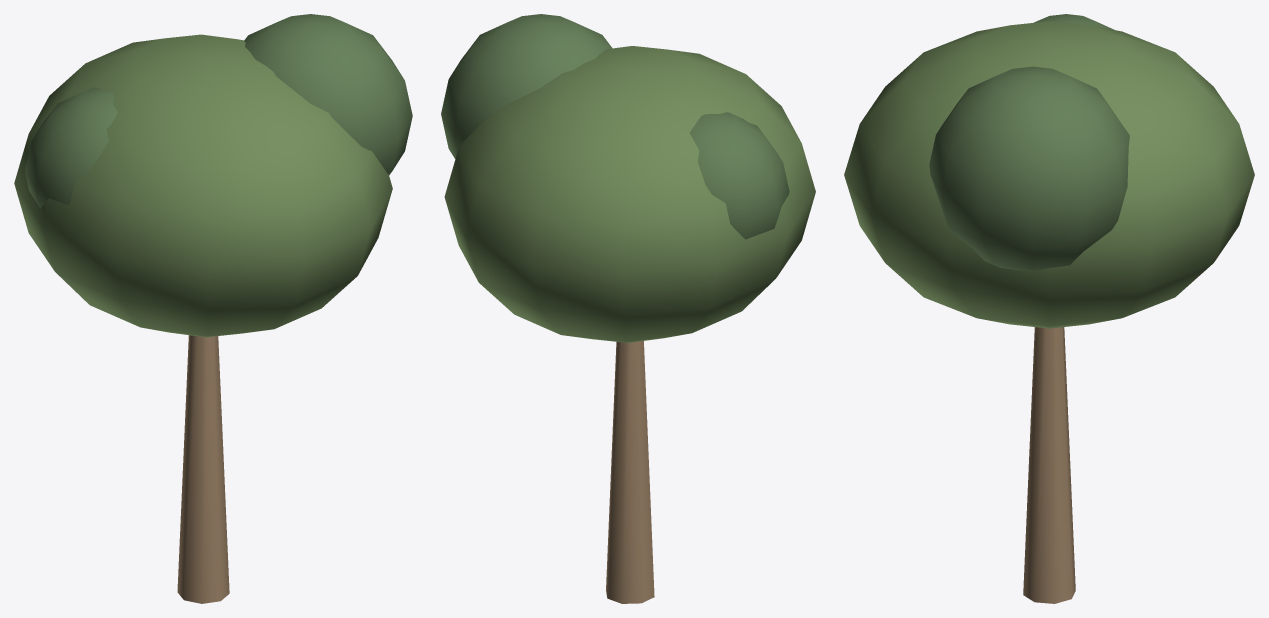
File: tree-b.glb
3 views of the same model, side by side, from view 1: azimuth 30°, elevation 25°; view 2: azimuth 150°, elevation 25°; view 3: azimuth 270°, elevation 25° (orthographic). The views are drawn at different scales.
Visible parts, largest first — view 1: foliageB, foliage, wood; view 2: foliageB, foliage, wood; view 3: foliageB, foliage, wood.
Part boxes in pixels (box(x1,y1,x2,y2)): foliageB: box(14, 34, 392, 337); foliage: box(25, 14, 412, 208); wood: box(177, 335, 229, 603); foliageB: box(444, 46, 815, 342); foliage: box(441, 14, 789, 239); wood: box(606, 341, 654, 603); foliageB: box(844, 21, 1254, 328); foliage: box(929, 14, 1129, 271); wood: box(1023, 327, 1075, 603).
Size of the model in its own units: 4.93 by 7.45 by 4.9.
